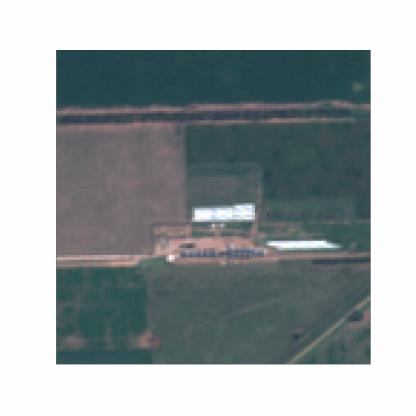silobolsa: (263, 238, 341, 250), (191, 211, 255, 222), (192, 204, 256, 214)
